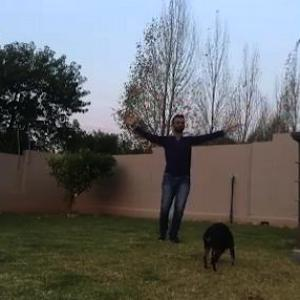takeoff: (126, 96, 246, 250)
